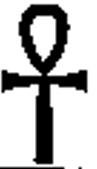Ankh: (1, 3, 93, 165)
